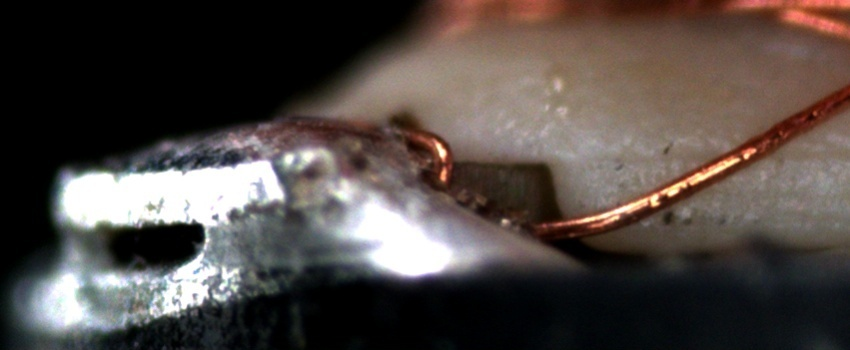DL: (587, 125, 849, 186)
TE: (376, 116, 461, 197)
